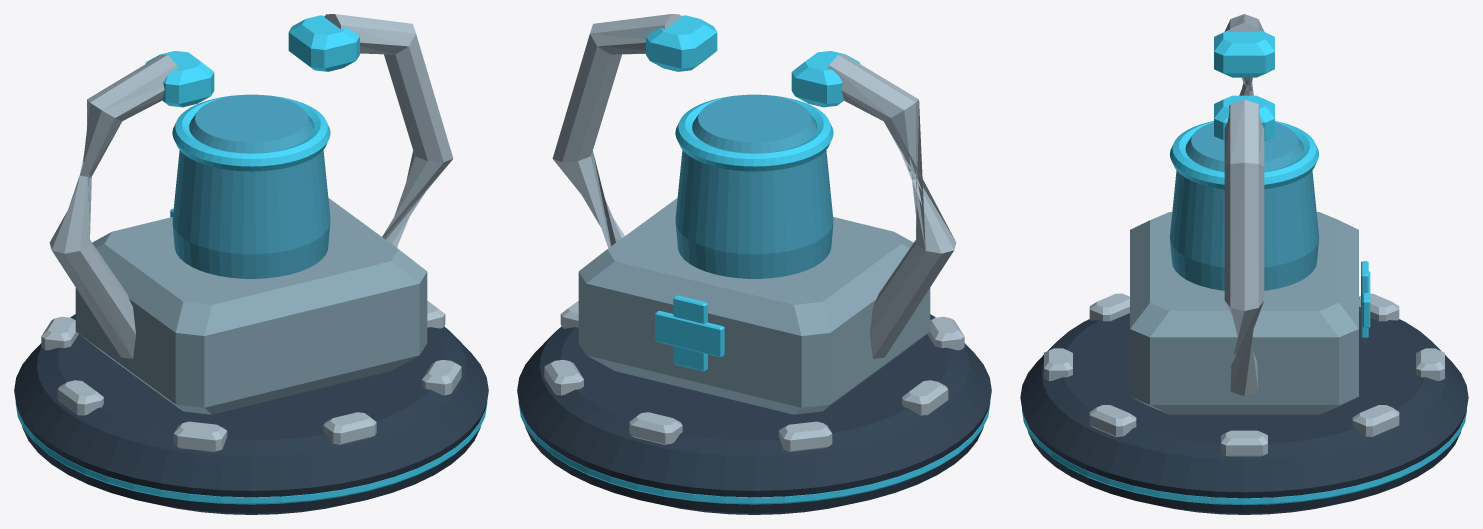
The model's file is repair.obj.
3 views of the same model, side by side, from view 1: azimuth 30°, elevation 25°; view 2: azimuth 150°, elevation 25°; view 3: azimuth 270°, elevation 25° (orthographic). The views are drawn at different scales.
Visible parts, largest first — view 1: repair; view 2: repair; view 3: repair.
Boxes of the visible parts, x1=… form: repair: x1=14, y1=14, x2=488, y2=514; repair: x1=517, y1=14, x2=991, y2=514; repair: x1=1020, y1=14, x2=1468, y2=514.
Bounding box in the file's own units: 0.294 × 0.2724 × 0.294.
